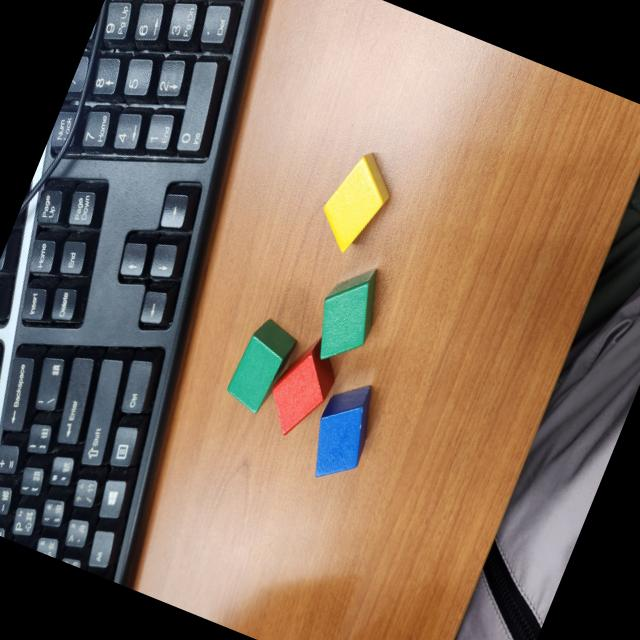blue: (313, 384, 370, 476)
green: (301, 255, 392, 372), (221, 312, 302, 418)
red: (255, 326, 347, 444)
yellow: (307, 143, 403, 264)
